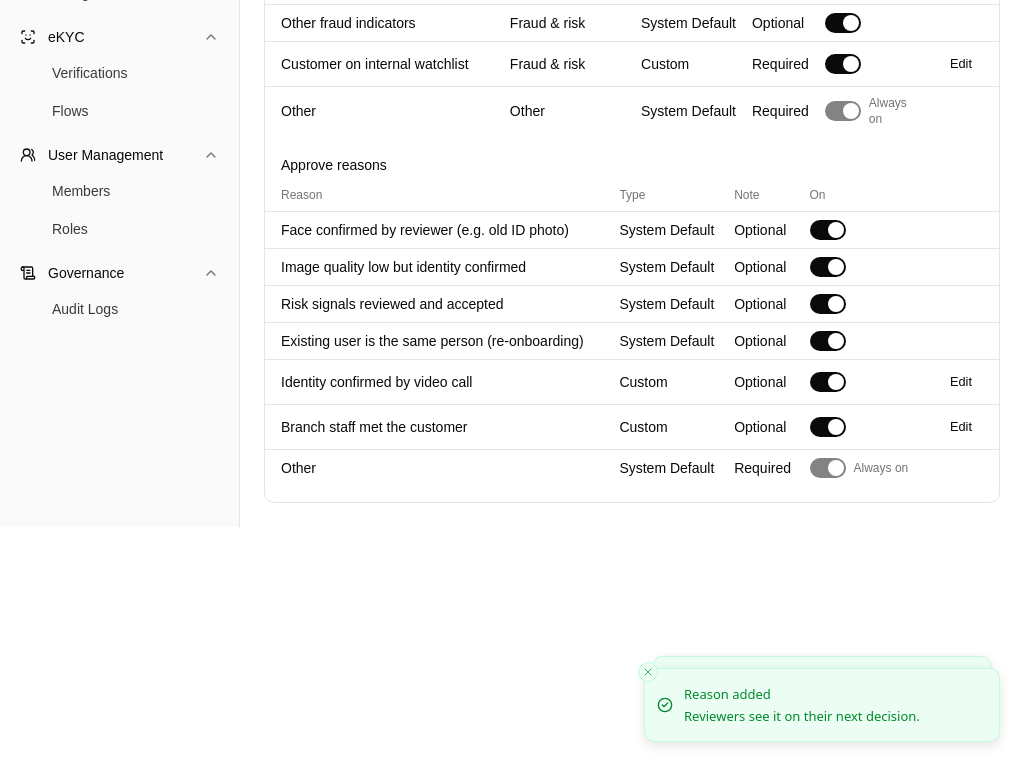
Project Settings (DEC-54, DEC-96) › Given Decision reasons, then System Default reasons only turn off, "Other" stays on, and a Custom reason can be added and edited (DEC-106)
The image size is (1024, 766).
Earlier steps of the test are not shown.
(page scrolled)
Expected: the column heading "Branch staff met the customer" is shown, [265,404,611,450]
Click the button with aria-label "Edit Identity confirmed by video call" at (961, 382), box [939,368,983,396]
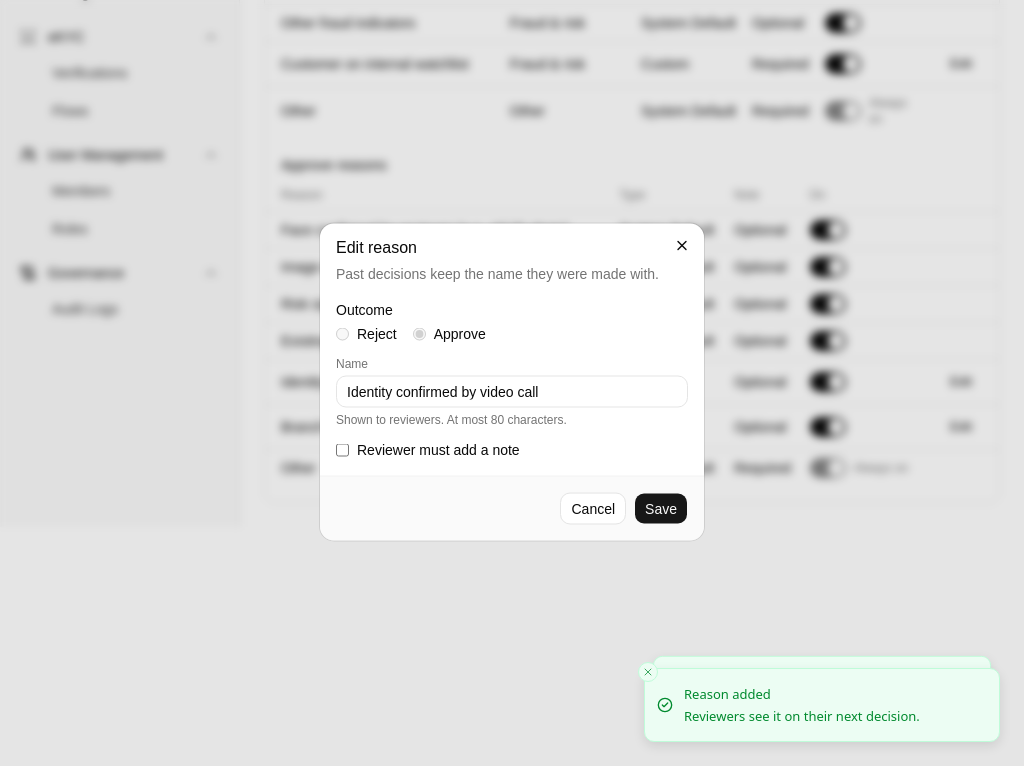
Replace the text in the field labelled "Name" with "Branch staff met the customer" at (512, 392), box [336,376,688,408]
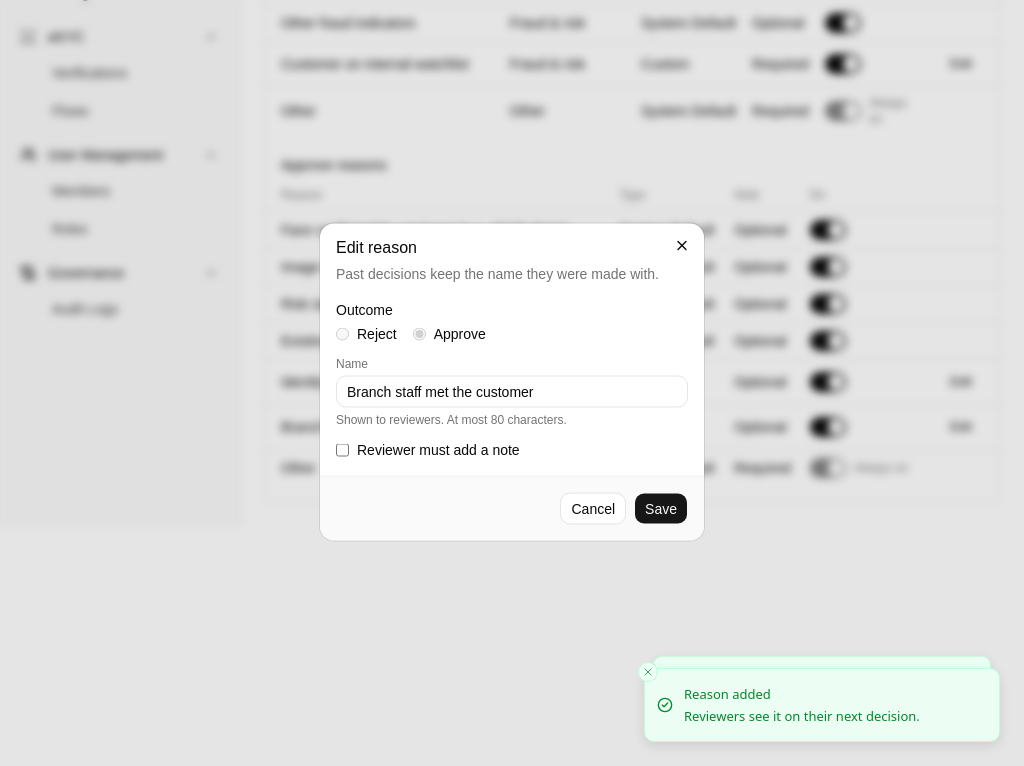
Click the button "Save" at (661, 508), box [634,492,688,524]
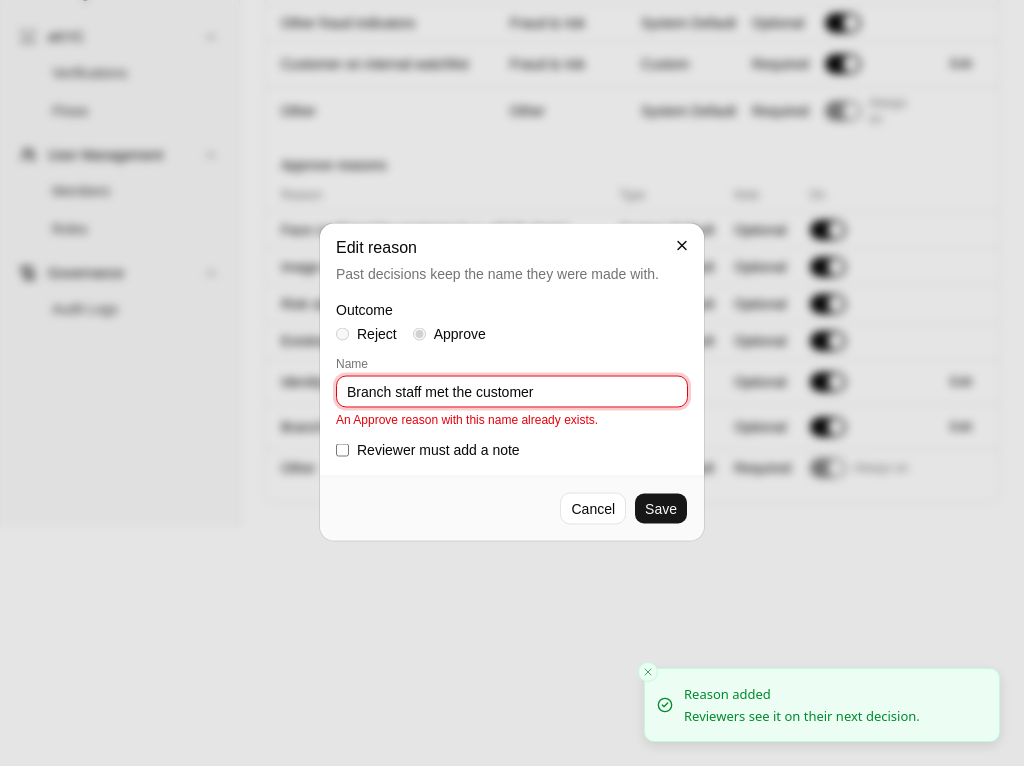
Expected: the text "An Approve reason with this name already exists." is shown, [336,412,598,426]
